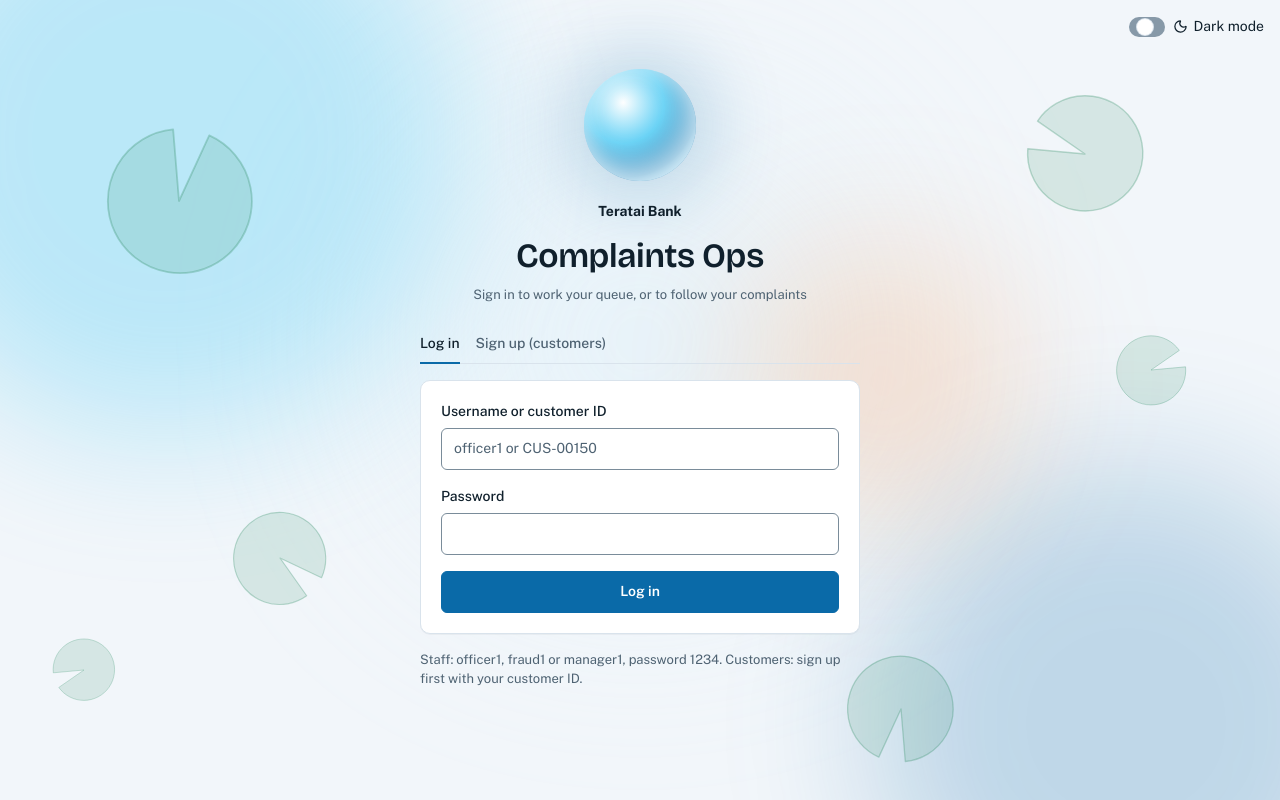
Test case: sign-in › refuses a wrong password and stays on the sign-in page
Step 1. Type "officer1" into the field labelled "Username or customer ID" → (640, 448), box [441, 428, 839, 470]
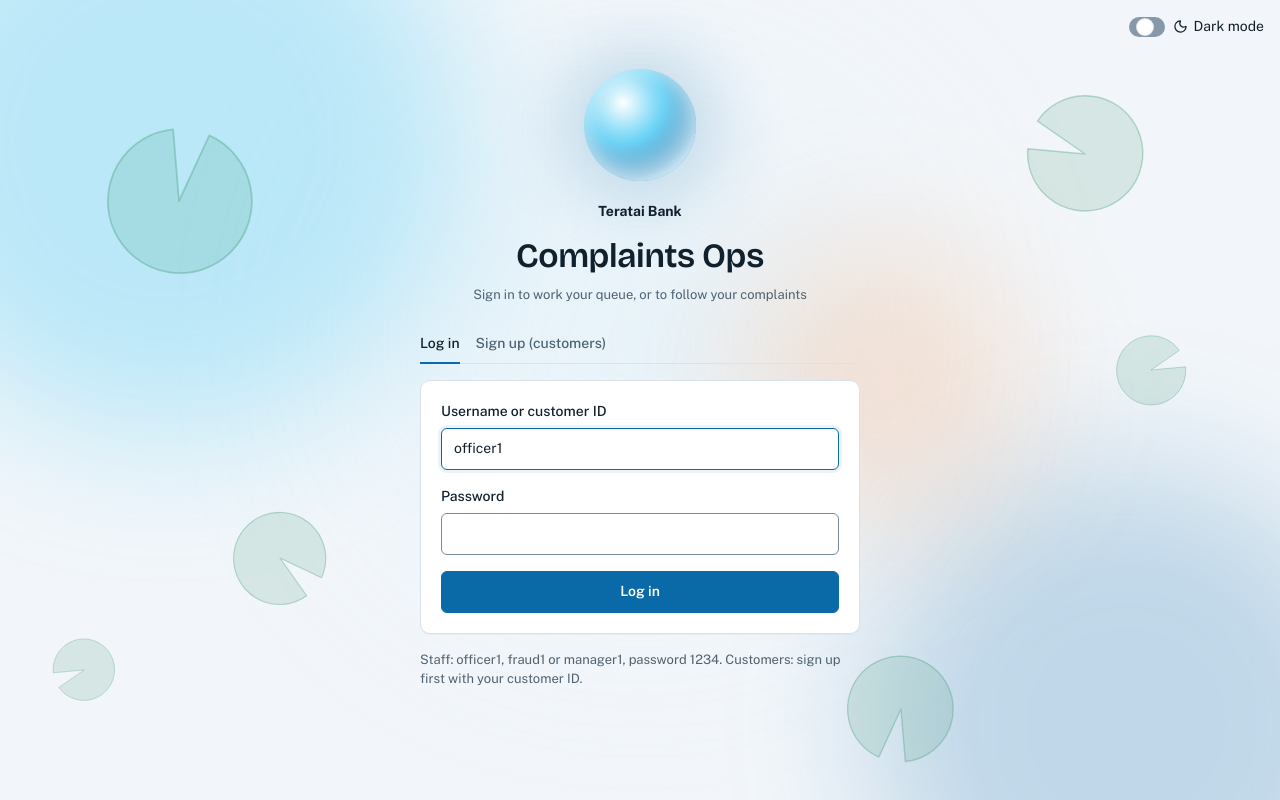
Step 2. Type "wrong" into the password field labelled "Password" → (640, 534), box [441, 512, 839, 554]
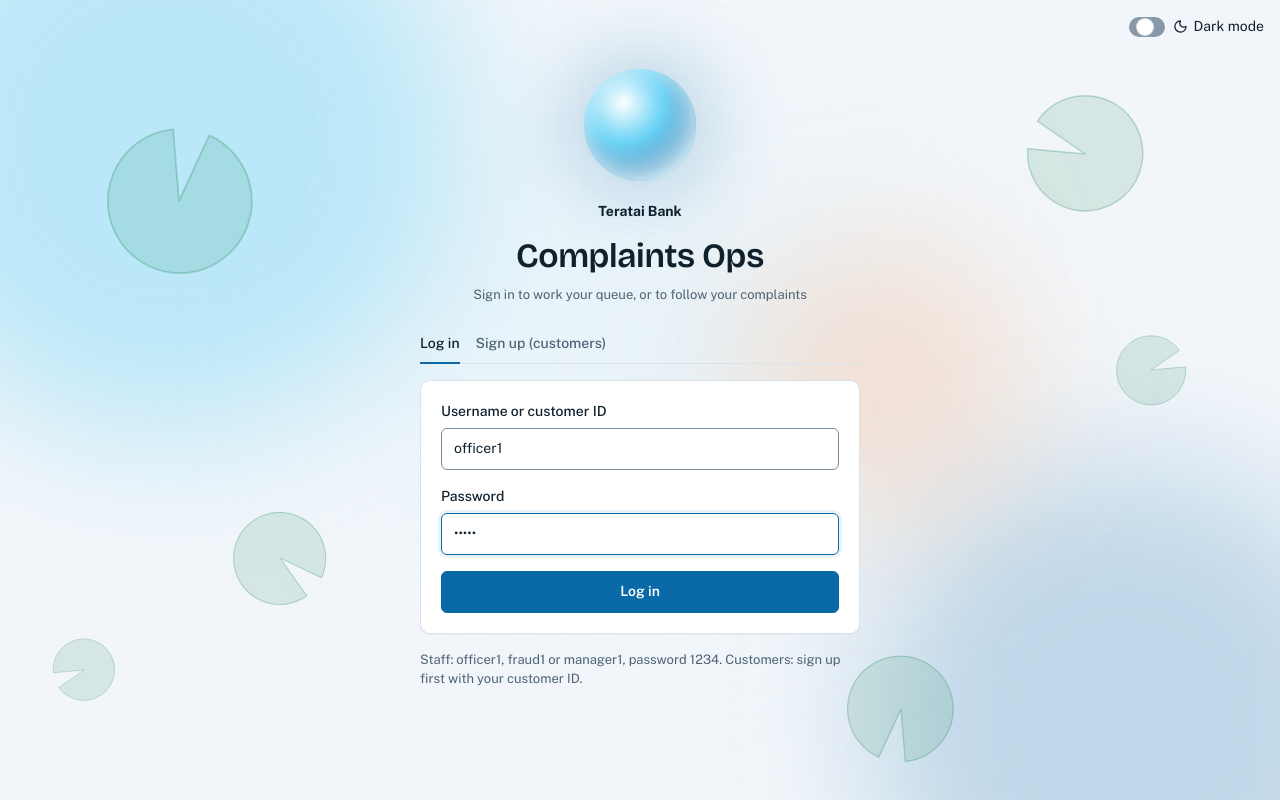
Step 3. Click the button "Log in" → click(640, 592), box [441, 570, 839, 612]
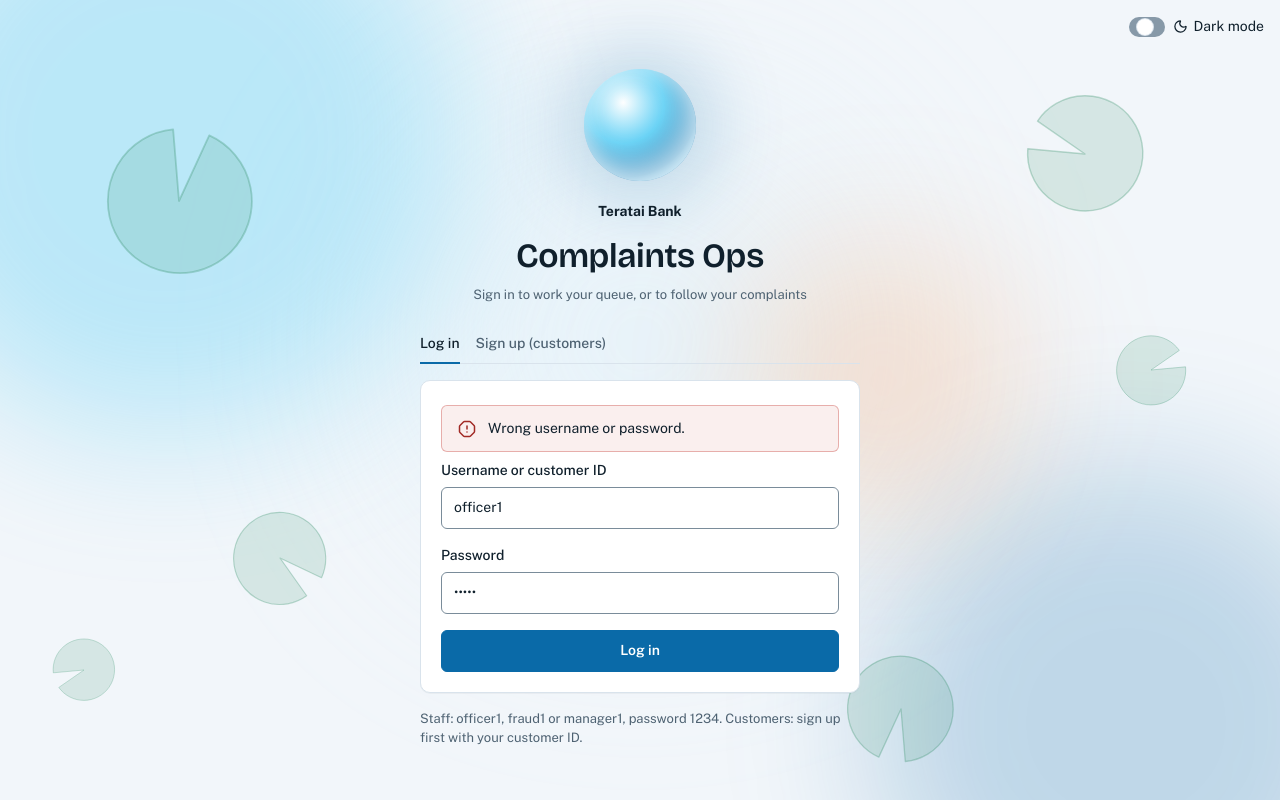
Result: the message reads "Wrong username or password." at [488, 420, 685, 436]
